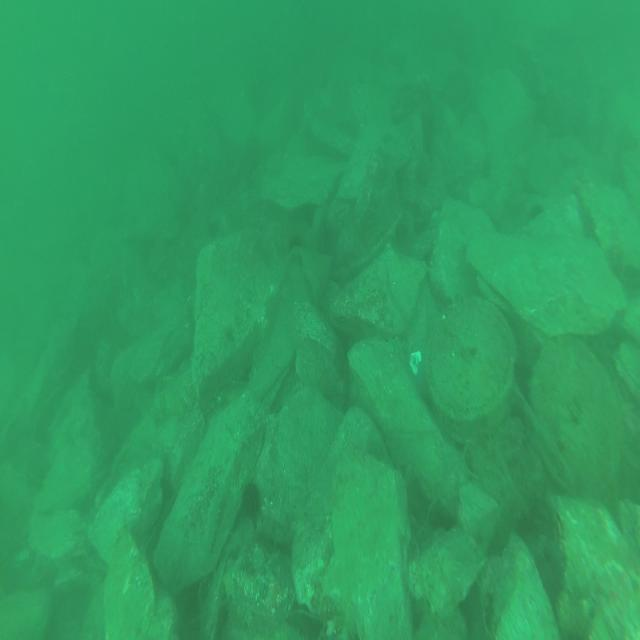echinus: (241, 479, 263, 522)
holothurian: (383, 332, 409, 363)
